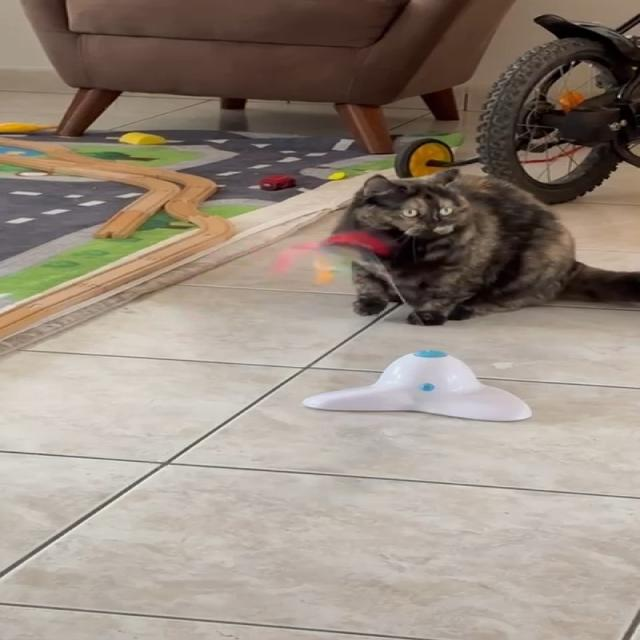authorized: (338, 168, 638, 326)
